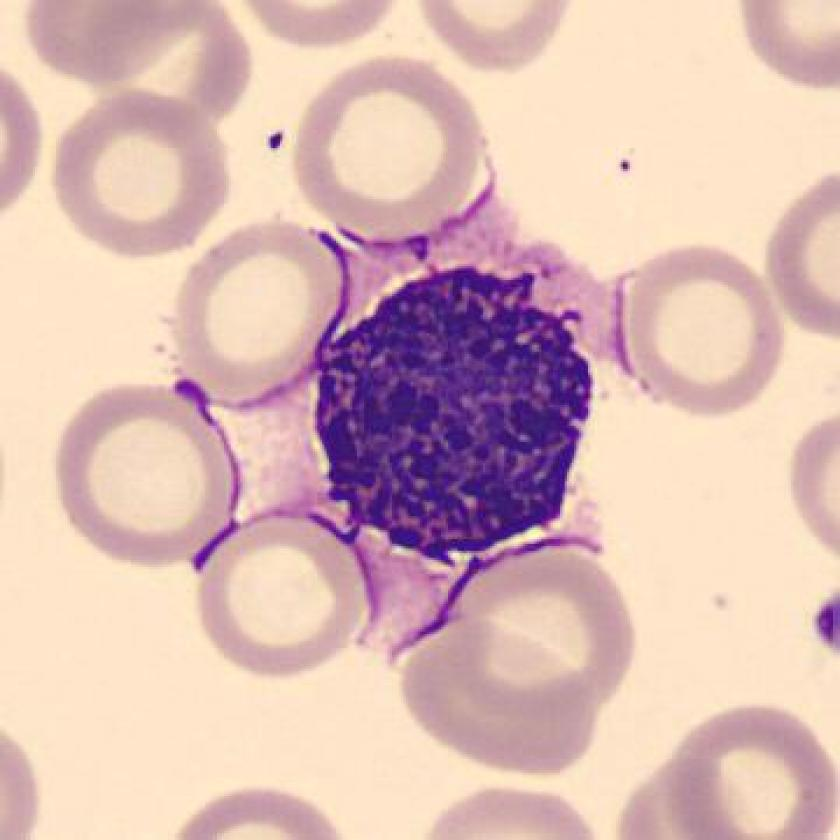basophil: (302, 265, 598, 561)
